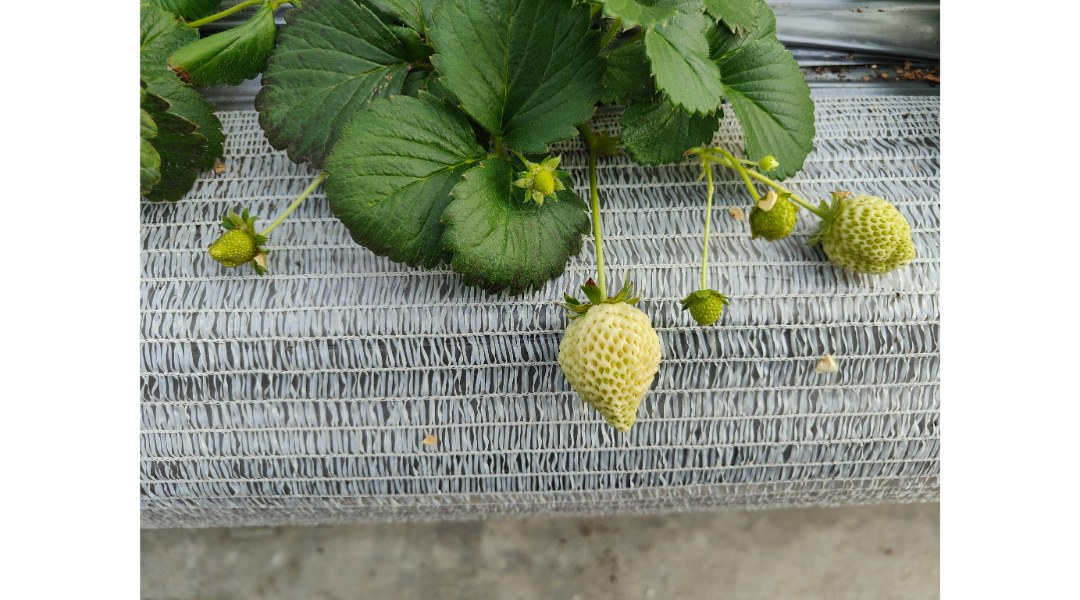berry: (559, 281, 663, 433), (808, 188, 927, 275), (189, 211, 272, 291), (744, 186, 791, 252), (684, 283, 729, 333)
flower: (521, 158, 575, 207)
strain: (587, 145, 612, 295), (693, 179, 720, 300), (275, 173, 325, 235)
